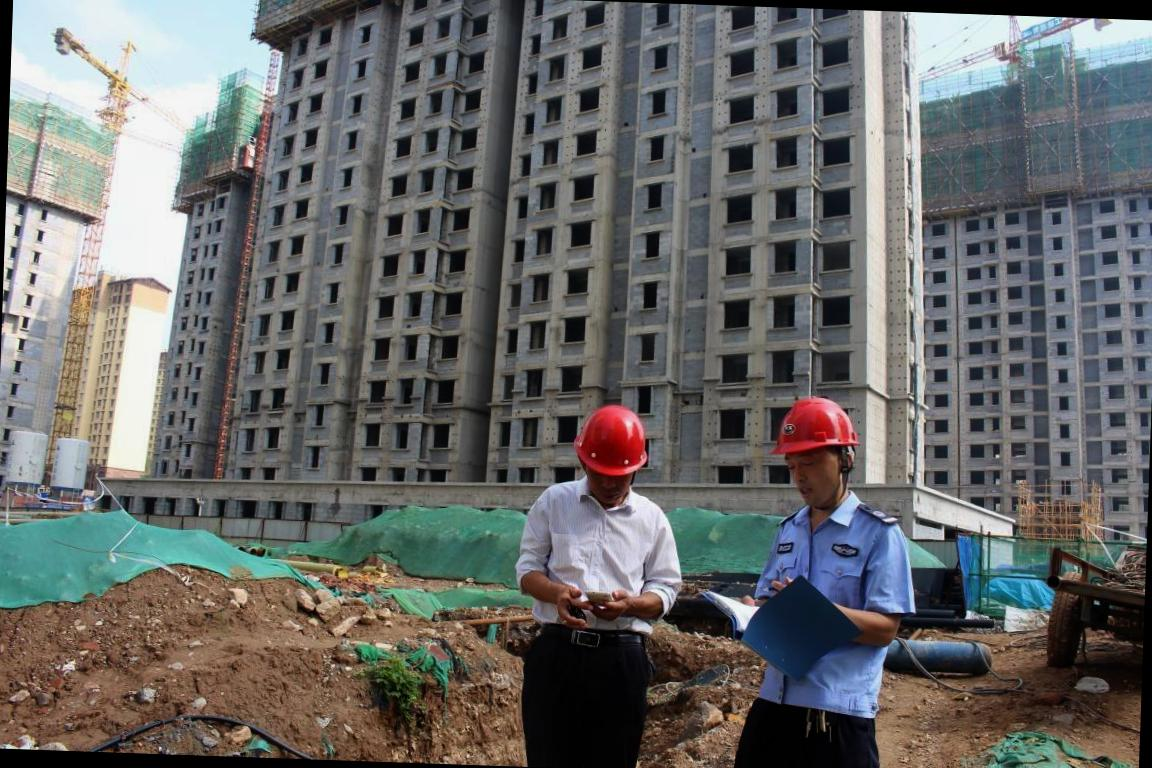helmet: (576, 404, 652, 483), (772, 397, 856, 454)
no_vest: (765, 501, 896, 684), (540, 483, 654, 625)
person: (508, 397, 700, 768), (723, 389, 909, 768)
